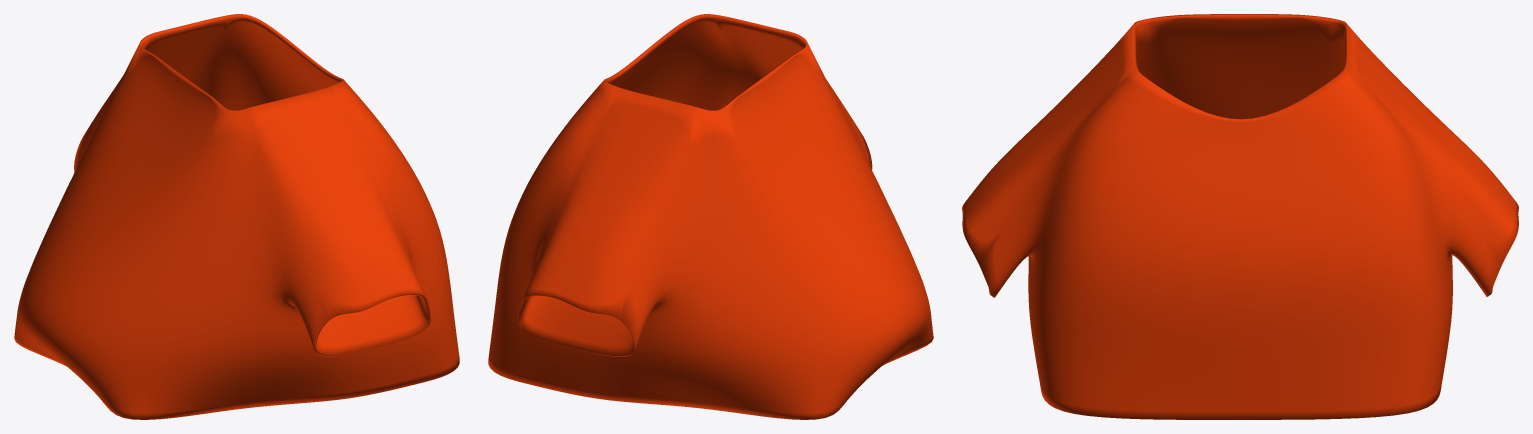
File: BasicShirt.fbx
3 views of the same model, side by side, from view 1: azimuth 30°, elevation 25°; view 2: azimuth 150°, elevation 25°; view 3: azimuth 270°, elevation 25° (orthographic). The views are drawn at different scales.
Parts seen in each view (by area): view 1: Body.001; view 2: Body.001; view 3: Body.001.
Part boxes in pixels (<box>): Body.001: <box>14,14,459,419</box>; Body.001: <box>488,14,933,419</box>; Body.001: <box>962,14,1518,419</box>.
Size of the model in its own units: 390 by 293 by 494.
